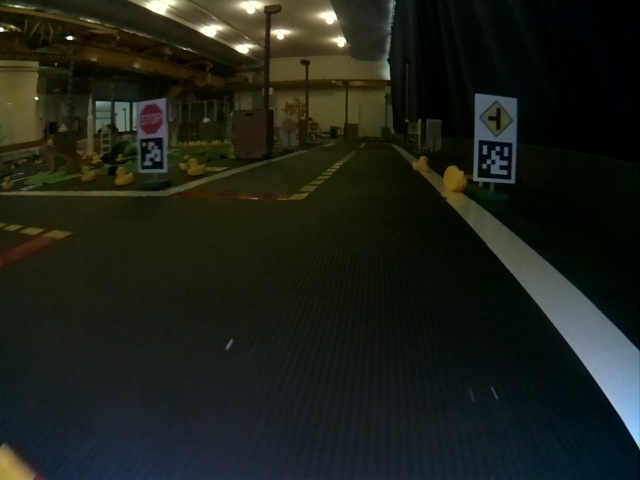Duckie: (443, 165, 465, 191), (115, 169, 133, 184), (186, 159, 203, 174), (413, 156, 428, 170), (80, 167, 94, 180), (4, 177, 14, 189), (58, 123, 66, 131)
Intersection sign: (478, 95, 513, 136)
QR code: (478, 141, 511, 181), (138, 138, 166, 172), (309, 136, 319, 143)
Stop sign: (138, 102, 165, 133), (309, 121, 319, 130)
